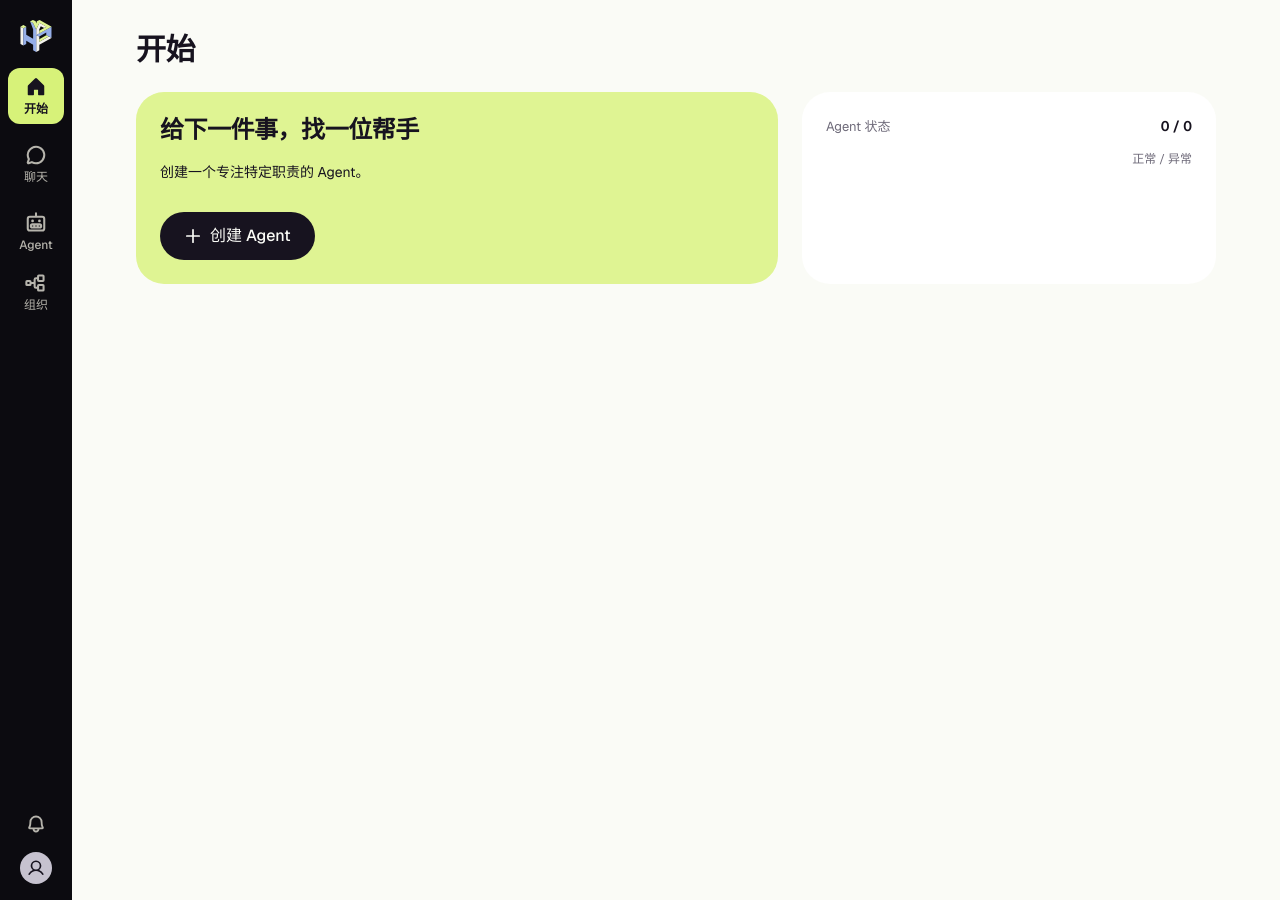
Test: Agent 设置 entry follows the page sections › has no menu entry, no route and no start-page link when neither section has a port
Expected: the heading "开始" is shown, [136,30,195,69]
Click the button named "我的账号与 Agent 设置菜单" at (36, 868), box [16,848,56,888]
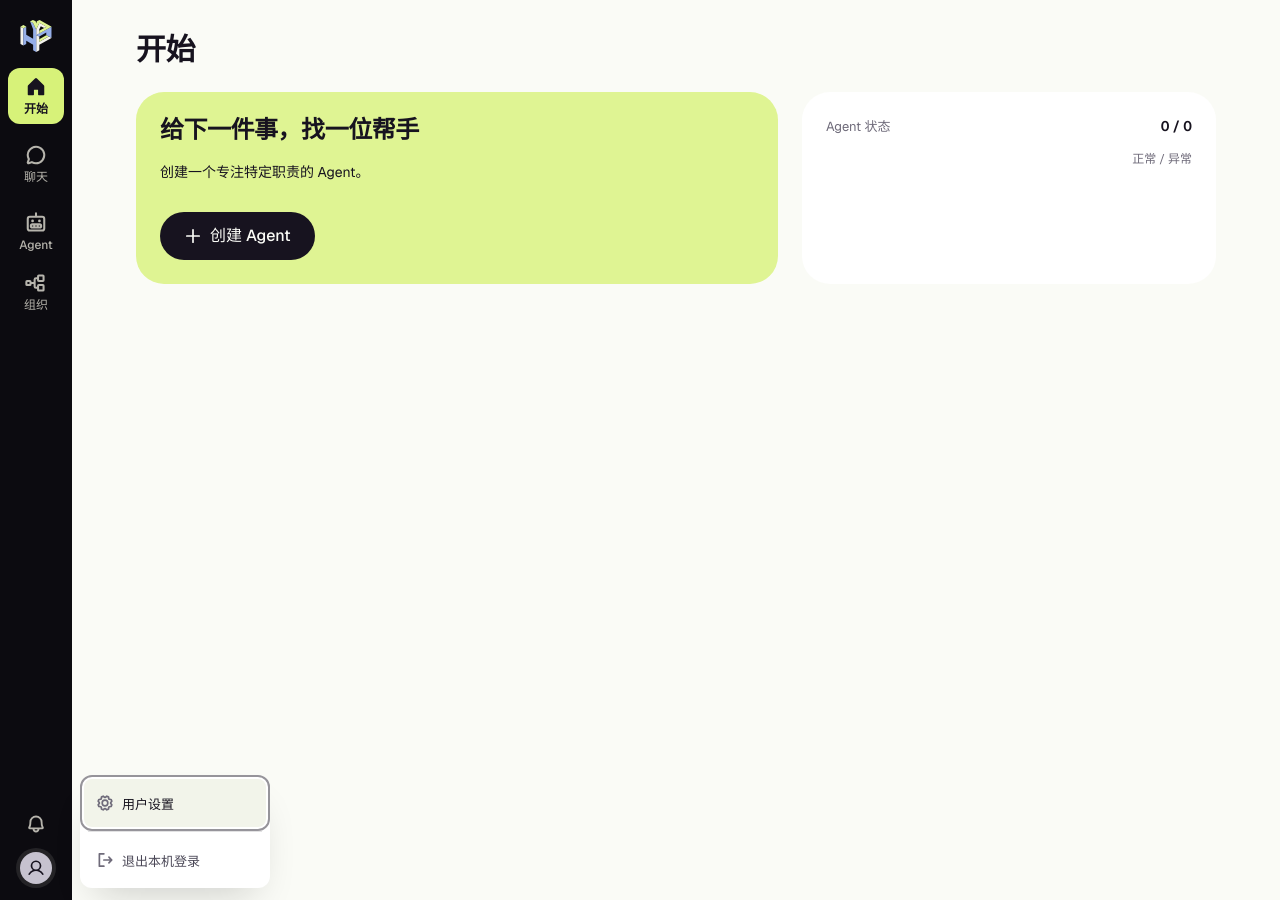
Now the menu item "用户设置" is shown, box [84,779,266,827]
